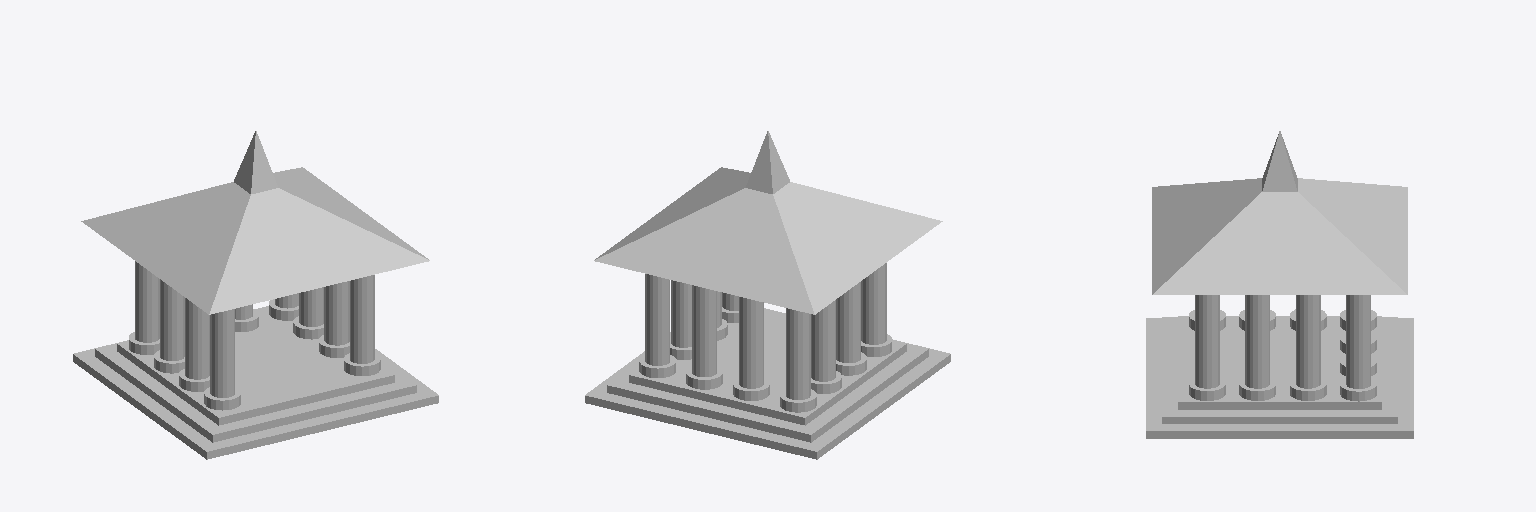
The model's file is temple.obj.
The picture shows the model from 3 angles: view 1: azimuth 30°, elevation 25°; view 2: azimuth 150°, elevation 25°; view 3: azimuth 270°, elevation 25°; orthographic projection.
Size of the model in its own units: 124 by 128 by 124.